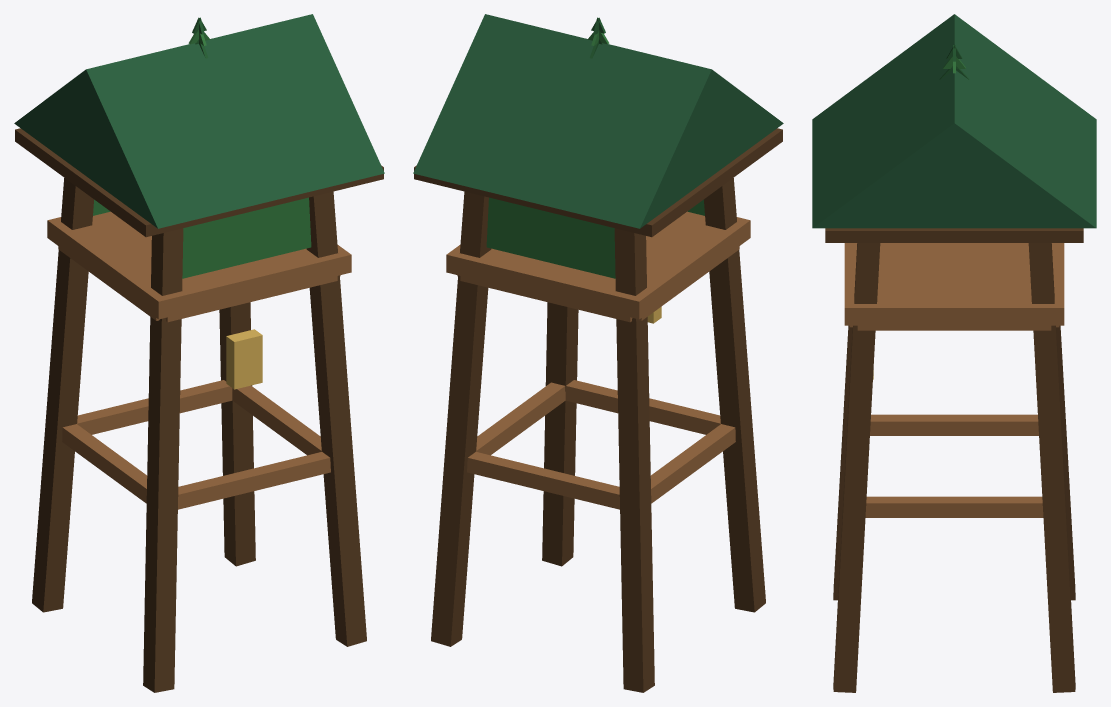
File: towerB.glb
3 views of the same model, side by side, from view 1: azimuth 30°, elevation 25°; view 2: azimuth 150°, elevation 25°; view 3: azimuth 270°, elevation 25° (orthographic).
Parts seen in each view (by area): view 1: pineValley-towerB; view 2: pineValley-towerB; view 3: pineValley-towerB.
Boxes of the visible parts, <box> form: pineValley-towerB: <box>14,14,384,692</box>; pineValley-towerB: <box>413,14,783,692</box>; pineValley-towerB: <box>812,14,1096,692</box>.
Bounding box in the file's own units: 0.42 × 1.02 × 0.44.
